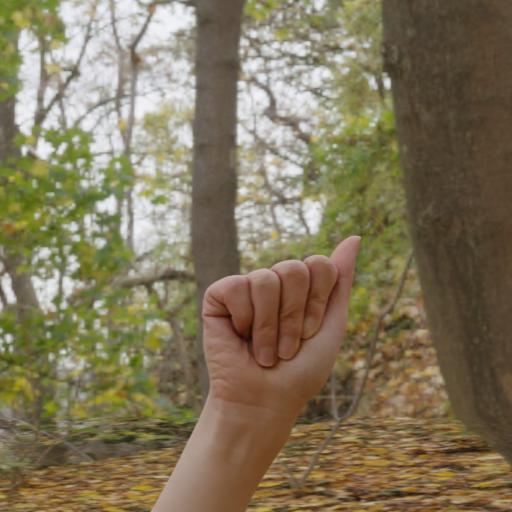A: (192, 227, 371, 433)
